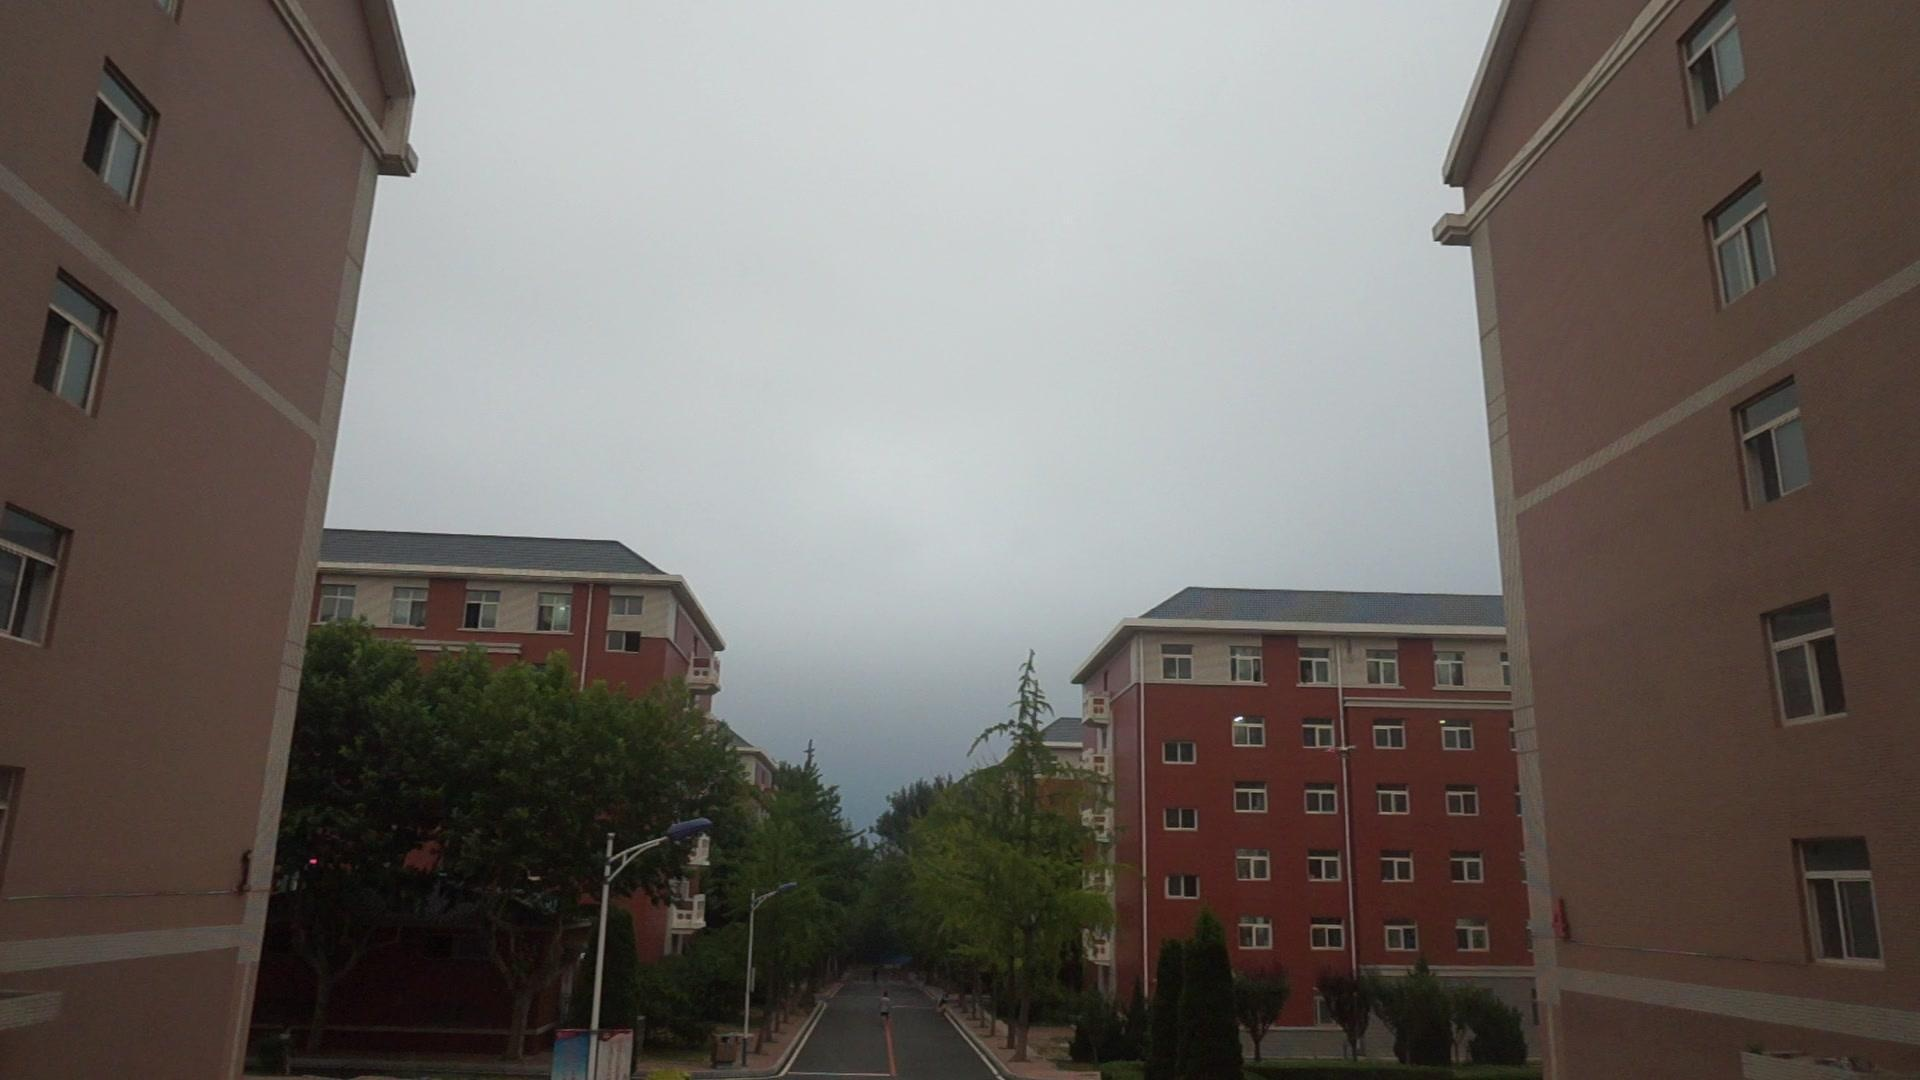UAV: (1325, 746, 1360, 760)
